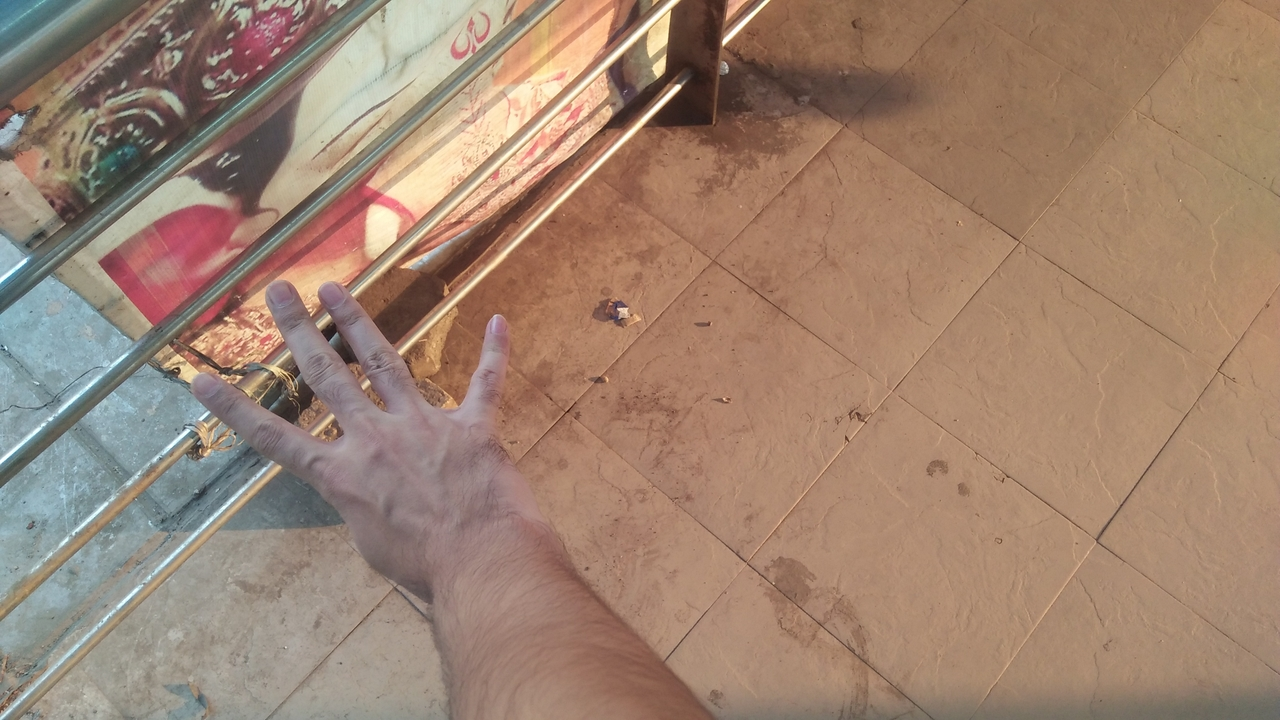fingertip: (256, 276, 306, 324), (308, 272, 360, 318), (472, 302, 522, 346), (175, 367, 224, 408)
